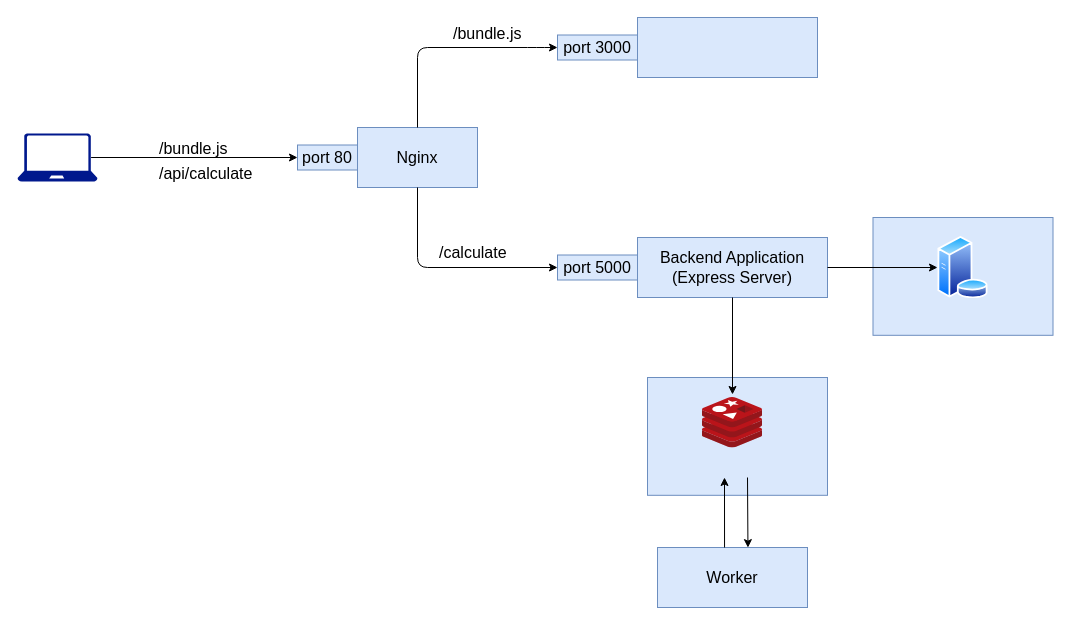
This 1070x625 diagram has some shape labels left out. The centre of each missing label's shape, as x and y in pixels:
Frontend Aplication (React Server): (x=727, y=47)
Postgres: (x=962, y=267)
Redis: (x=732, y=422)
